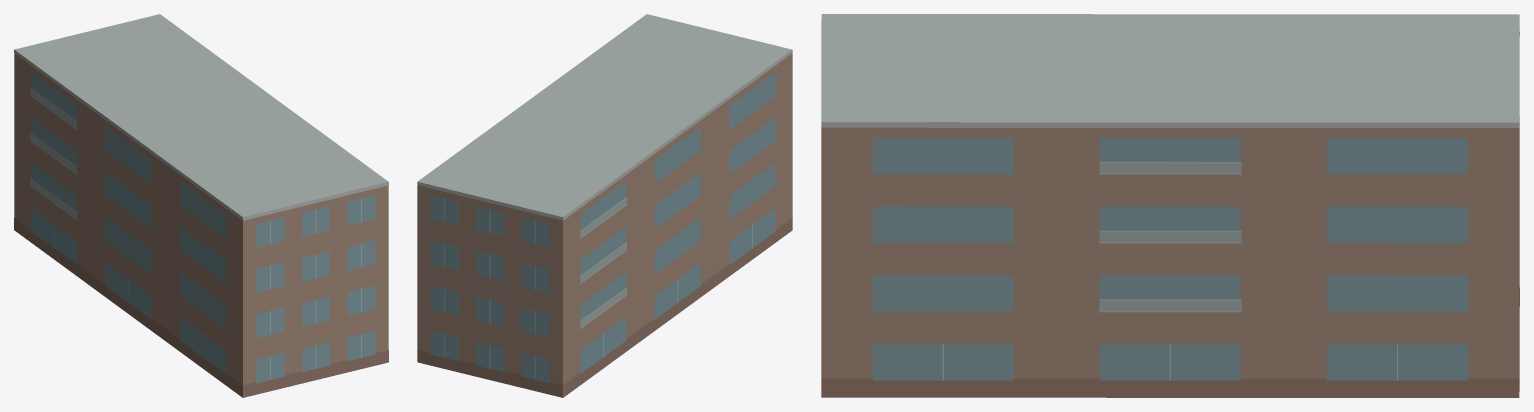
The model's file is survey-upis-32538570.glb.
3 renders of one model, left to right at view 1: azimuth 30°, elevation 25°; view 2: azimuth 150°, elevation 25°; view 3: azimuth 270°, elevation 25°, orthographic. The views are drawn at different scales.
Visible parts, largest first — view 1: survey-upis-32538570.tmp; view 2: survey-upis-32538570.tmp; view 3: survey-upis-32538570.tmp.
Boxes of the visible parts, x1,y1,x2,y2 form: survey-upis-32538570.tmp: (14,14,388,397); survey-upis-32538570.tmp: (417,14,792,397); survey-upis-32538570.tmp: (821,14,1519,397).
Size of the model in its own units: 10.63 by 12.5 by 28.77.
